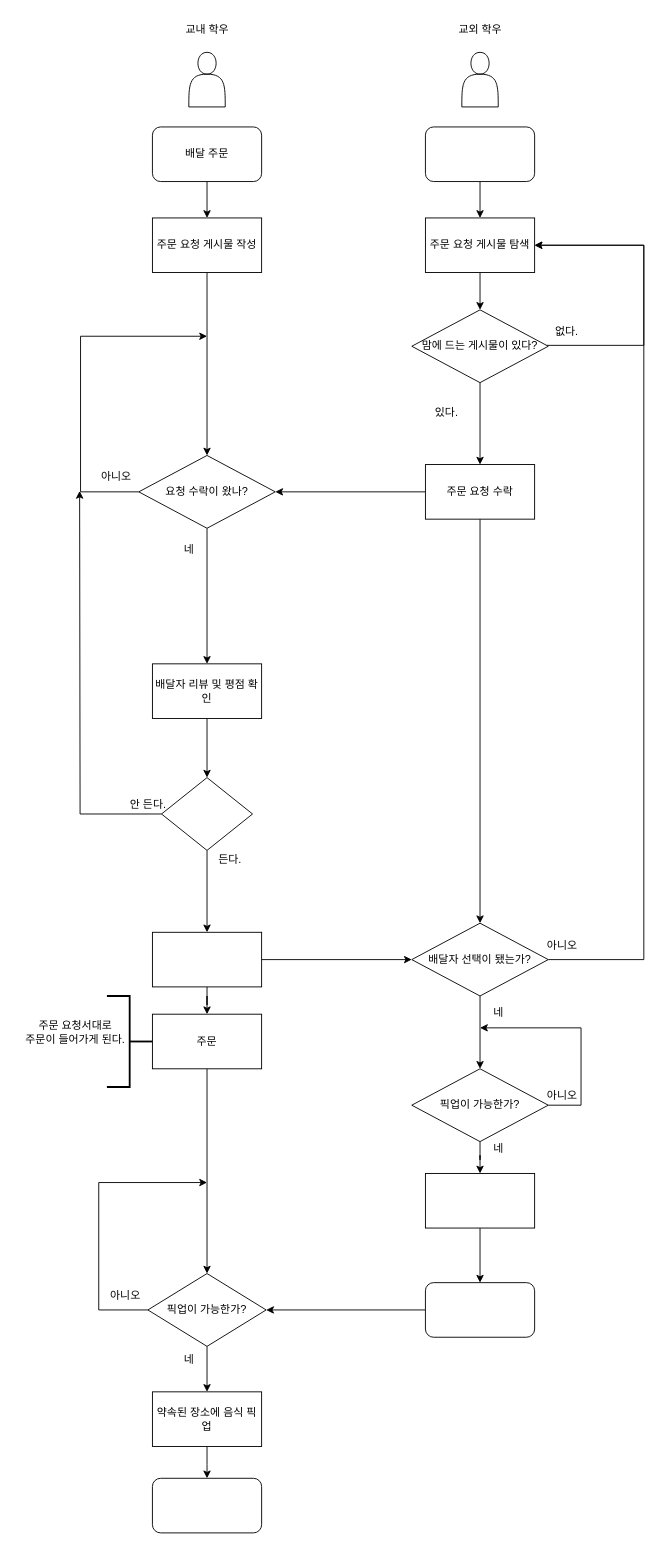
Image size: 667x1549. Some labels were removed from this diagram. The centre of each missing label's shape, as x and y in pixels:
맘에 드는가?: point 207,813
배달: point 480,154
배달 시작: point 480,1200
배달자 리뷰: point 207,1505
배달자 선택 완료: point 207,959
지정된 장소에 음식 전달: point 480,1309
